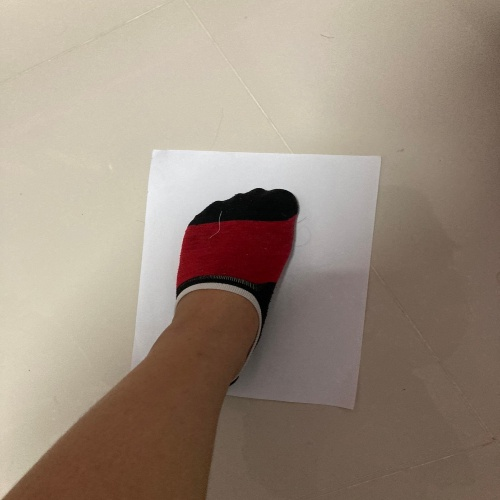Top_Foot: (114, 133, 401, 428)
